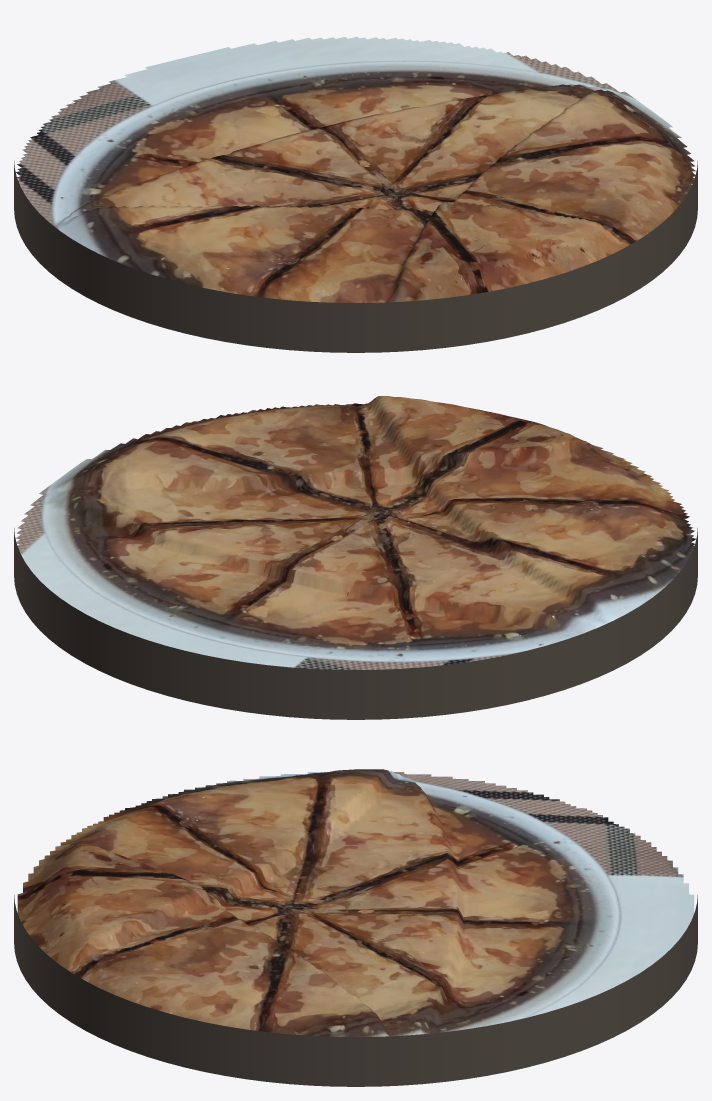
File: plato.glb
The picture shows the model from 3 angles, top to bottom: view 1: azimuth 30°, elevation 25°; view 2: azimuth 150°, elevation 25°; view 3: azimuth 270°, elevation 25°; orthographic projection.
Bounding box in the file's own units: 0.2985 × 0.0292 × 0.2985.
2 materials, 1 textured.
